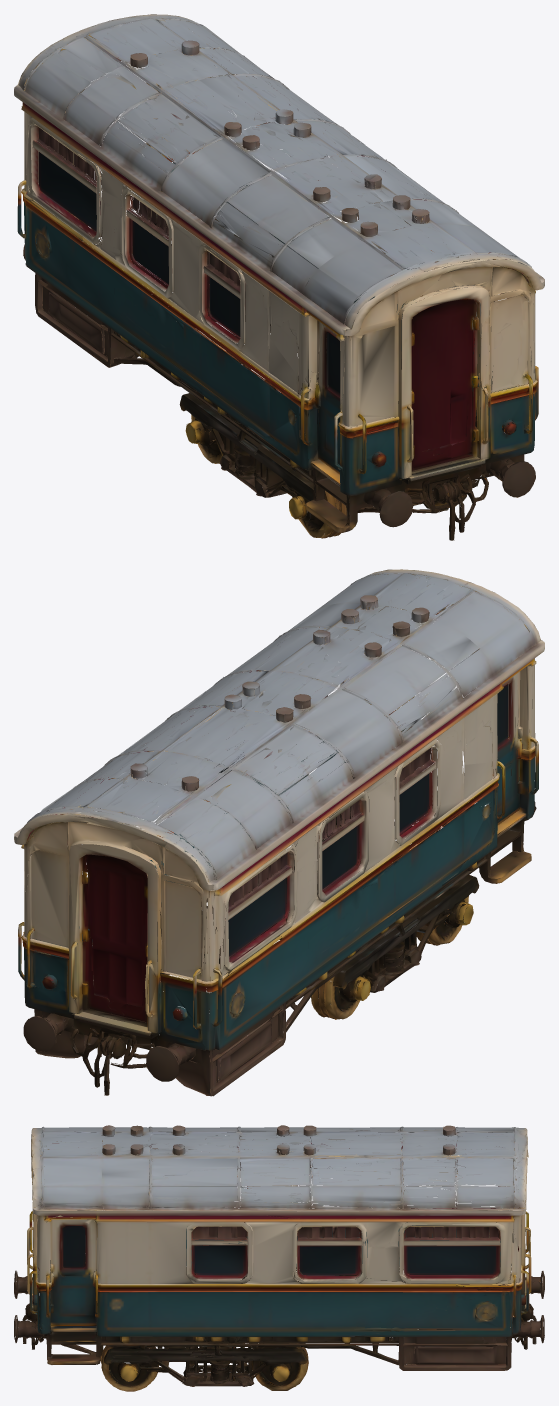
The model's file is env-doorless-carriage.glb.
The picture shows the model from 3 angles, top to bottom: view 1: azimuth 30°, elevation 25°; view 2: azimuth 150°, elevation 25°; view 3: azimuth 270°, elevation 25°; orthographic projection. The views are drawn at different scales.
Visible parts, largest first — view 1: env-doorless-carriage; view 2: env-doorless-carriage; view 3: env-doorless-carriage.
Boxes of the visible parts, box(x1,y1,x2,y2) form: env-doorless-carriage: box(14, 14, 544, 540); env-doorless-carriage: box(14, 569, 544, 1096); env-doorless-carriage: box(14, 1125, 544, 1391).
Bounding box in the file's own units: 2.6 × 3.81 × 7.92.
1 material, 1 textured.
